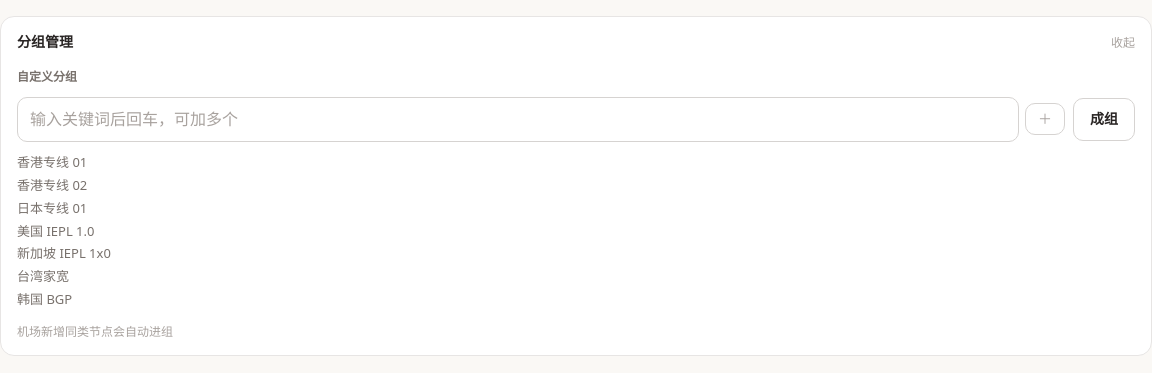
Scenario: GroupPanel 多关键词 chip 输入与 AND 命中 › 「＋」按钮加词与回车等价
Type "日本" into the field named "分组关键词". click: [518, 119]
box: [17,97,1019,142]
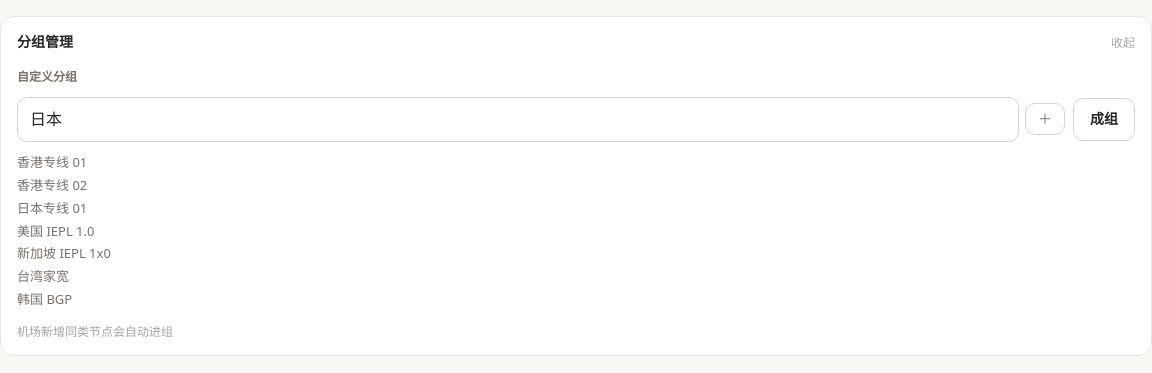
Click the button with class "group-add-kw". click: [1045, 119]
box: [1025,103,1065,135]
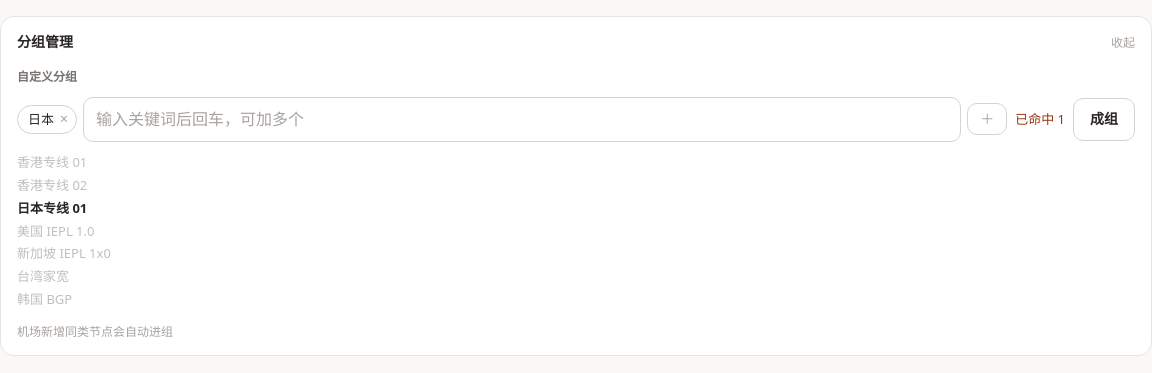
Expected: the number of elements with class "kw-chip" is 1, [17,105,77,134]
Expected: the text "已命中 1" is shown, [1015,109,1065,130]
